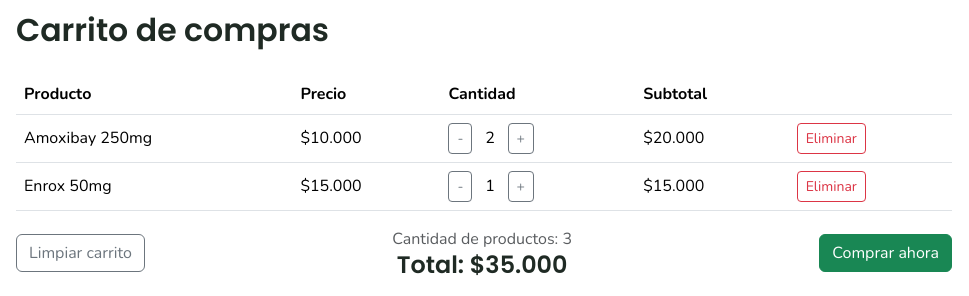
Scenario: Carrito (página) › el botón - disminuye la cantidad y el total
Step 1. Click the button named "Disminuir cantidad de Amoxibay 250mg" → [460, 138], box [448, 123, 472, 154]
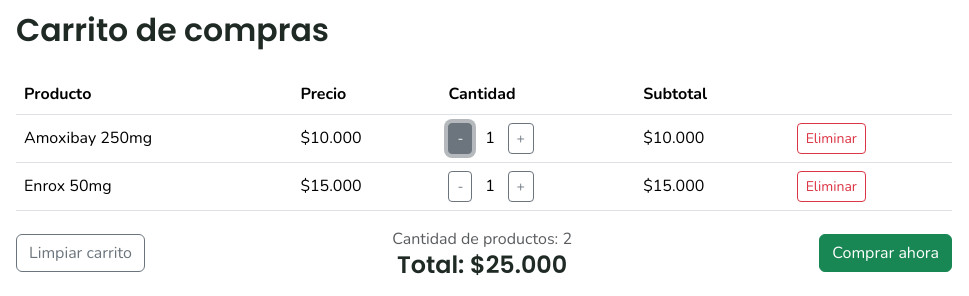
Expected: the heading with test id "total-carrito" reads "Total: $25.000", [392, 251, 572, 280]
Expected: the text with test id "cantidad-carrito" reads "Cantidad de productos: 2", [392, 227, 572, 251]
